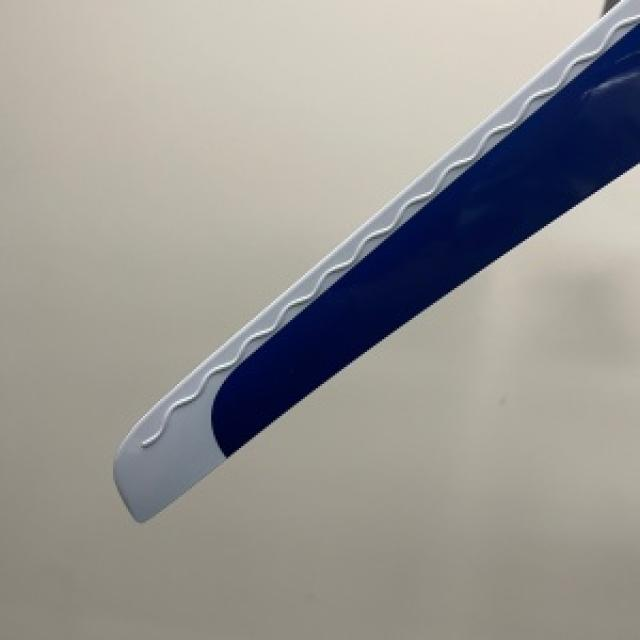healthy: (113, 0, 638, 518)
